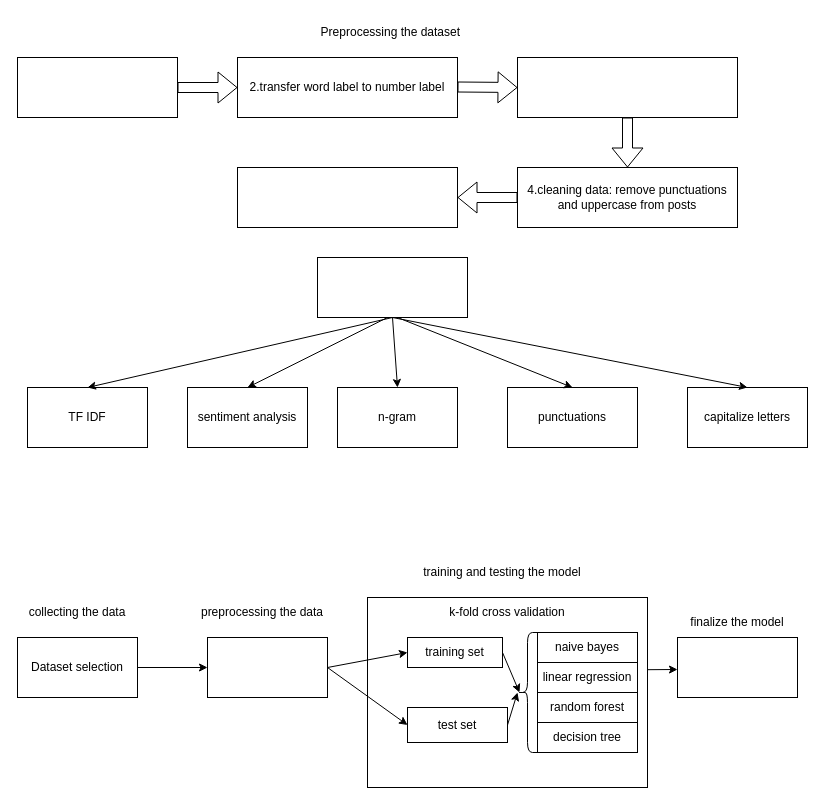
The diagram is 825 pixels wide and 805 high, and some of its shapes have lost their labels. Here are the shapes that lost their labels. From the top down, the centre of each, then its label:
At [97,87]: "1.original dataset".
At [627,87]: "3.tokenize posts(from sentence to word)".
At [347,197]: "5.lemmatization and stemming to the tokens()".
At [392,287]: "feature extraction".
At [267,667]: "preprocessing normalization feature extraction".
At [737,667]: "find the best model".
